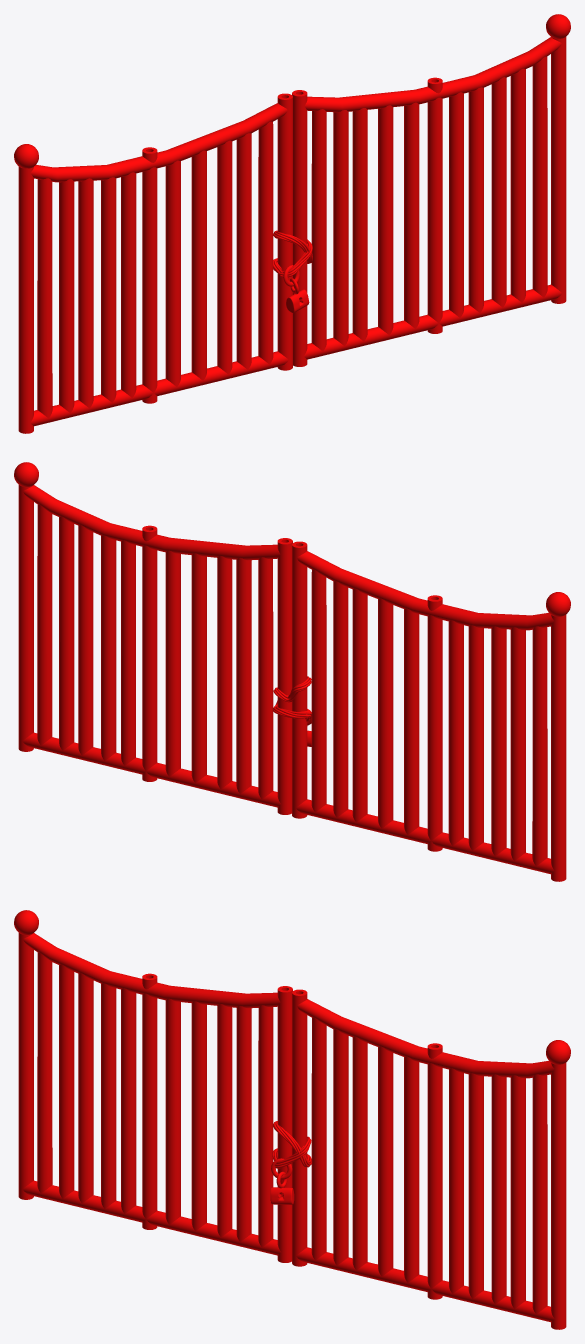
File: project2gate_2.0.fbx
The picture shows the model from 3 angles, top to bottom: view 1: azimuth 30°, elevation 25°; view 2: azimuth 150°, elevation 25°; view 3: azimuth 330°, elevation 25°; orthographic projection.
Visible parts, largest first — view 1: LeftGate, RightGate, Lock; view 2: LeftGate, RightGate, Lock; view 3: RightGate, LeftGate, Lock.
Boxes of the visible parts, <box> form: LeftGate: <box>14,93,292,433</box>; RightGate: <box>292,14,570,366</box>; Lock: <box>273,230,312,312</box>; LeftGate: <box>292,541,570,881</box>; RightGate: <box>14,462,292,814</box>; Lock: <box>273,676,311,746</box>; RightGate: <box>292,989,570,1329</box>; LeftGate: <box>14,910,292,1262</box>; Lock: <box>270,1121,311,1204</box>.
Size of the model in its own units: 1398 by 688 by 81.7.
